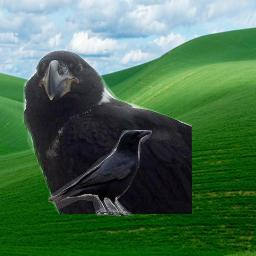Crow: (21, 49, 192, 214), (48, 130, 152, 216)
